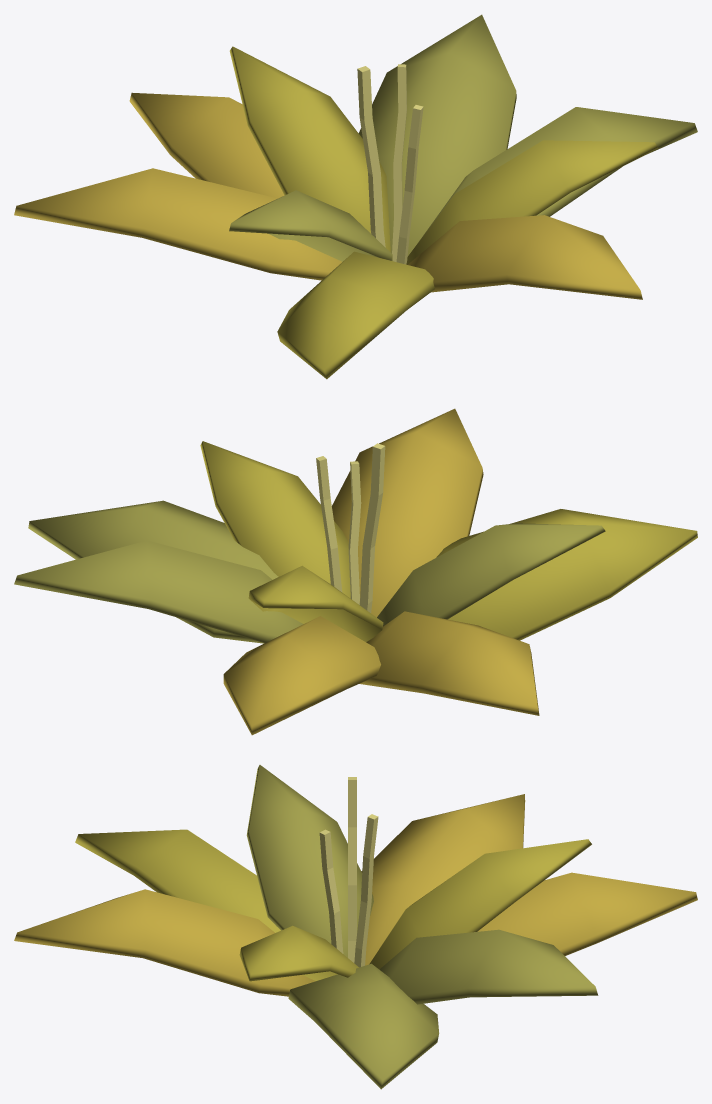
Rendered from Leaf_Plant_Orange_2.fbx.
3 renders of one model, top to bottom at view 1: azimuth 30°, elevation 25°; view 2: azimuth 150°, elevation 25°; view 3: azimuth 270°, elevation 25°, orthographic. The views are drawn at different scales.
Visible parts, largest first — view 1: Plane.277, Plane.283, Plane.276, Plane.284, Plane.280, Plane.275, Plane.282, Plane.281, Plane.274, Cube.412, Cube.414, Cube.413; view 2: Plane.284, Plane.277, Plane.280, Plane.283, Plane.275, Plane.282, Plane.274, Plane.281, Plane.276, Cube.412, Cube.413, Cube.414; view 3: Plane.284, Plane.274, Plane.277, Plane.283, Plane.281, Plane.282, Plane.276, Plane.280, Plane.275, Cube.413, Cube.412, Cube.414.
Boxes of the visible parts, left/top/right/bottom form: Plane.277: left=358, top=14, right=516, bottom=256; Plane.283: left=14, top=168, right=341, bottom=280; Plane.276: left=229, top=46, right=390, bottom=251; Plane.284: left=408, top=215, right=642, bottom=299; Plane.280: left=277, top=251, right=434, bottom=379; Plane.275: left=406, top=140, right=658, bottom=264; Plane.282: left=129, top=92, right=284, bottom=198; Plane.281: left=419, top=107, right=697, bottom=240; Plane.274: left=229, top=190, right=392, bottom=261; Cube.412: left=357, top=66, right=385, bottom=247; Cube.414: left=396, top=105, right=423, bottom=264; Cube.413: left=392, top=64, right=406, bottom=261; Plane.284: left=332, top=408, right=483, bottom=617; Plane.277: left=14, top=540, right=303, bottom=643; Plane.280: left=436, top=509, right=697, bottom=640; Plane.283: left=359, top=611, right=539, bottom=715; Plane.275: left=200, top=441, right=350, bottom=598; Plane.282: left=223, top=616, right=380, bottom=735; Plane.274: left=377, top=523, right=605, bottom=626; Plane.281: left=28, top=500, right=278, bottom=643; Plane.276: left=248, top=565, right=383, bottom=641; Cube.412: left=359, top=443, right=385, bottom=612; Cube.413: left=316, top=456, right=342, bottom=592; Cube.414: left=348, top=461, right=361, bottom=604; Plane.284: left=14, top=889, right=315, bottom=996; Plane.274: left=246, top=765, right=373, bottom=957; Plane.277: left=379, top=929, right=598, bottom=1004; Plane.283: left=361, top=794, right=525, bottom=965; Plane.281: left=288, top=963, right=439, bottom=1089; Plane.282: left=477, top=872, right=697, bottom=955; Plane.276: left=369, top=839, right=591, bottom=969; Plane.280: left=75, top=829, right=280, bottom=932; Plane.275: left=239, top=925, right=358, bottom=981; Cube.413: left=354, top=814, right=378, bottom=967; Cube.412: left=348, top=777, right=356, bottom=962; Cube.414: left=319, top=829, right=343, bottom=953.
Size of the model in its own units: 171 by 60.93 by 177.
